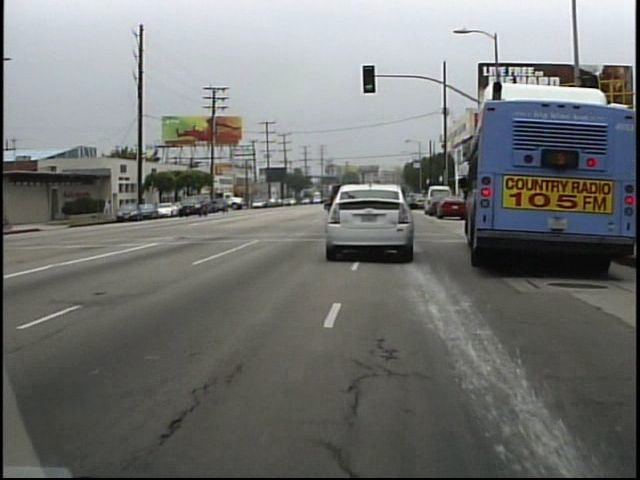person: (102, 195, 116, 221)
